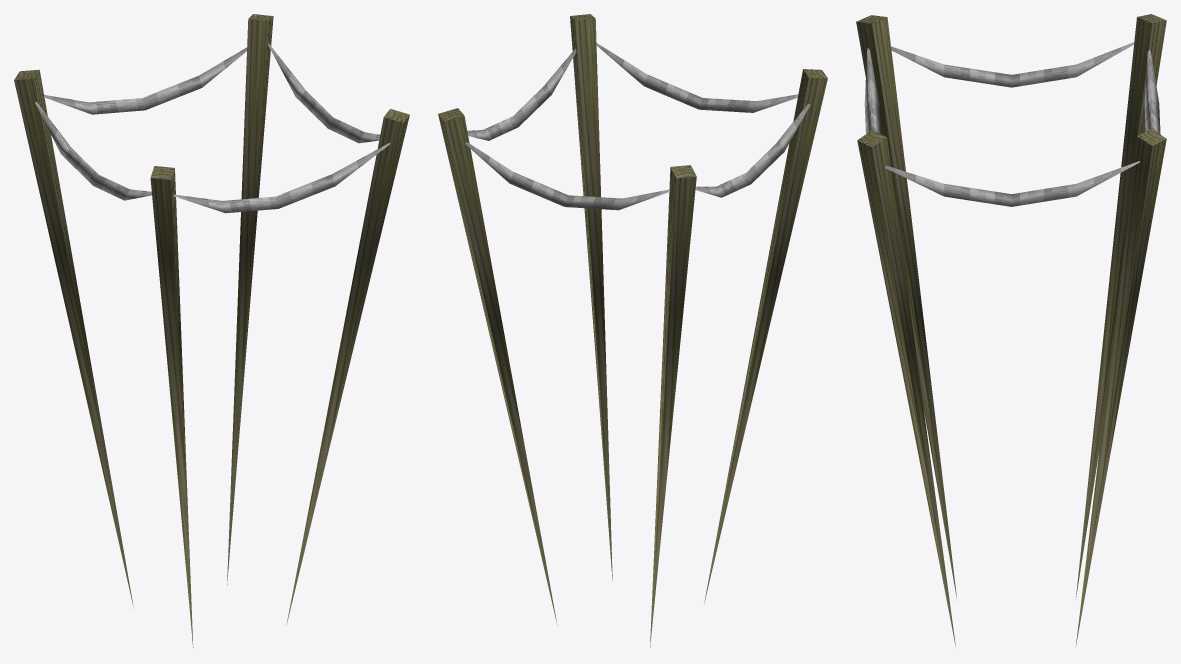
File: buildplace.obj
The picture shows the model from 3 angles, left to right: view 1: azimuth 30°, elevation 25°; view 2: azimuth 150°, elevation 25°; view 3: azimuth 270°, elevation 25°; orthographic projection. The views are drawn at different scales.
Parts seen in each view (by area): view 1: Box01, Duplicate04, Duplicate03, Duplicate02, Duplicate07, Duplicate06, Duplicate05, Cylinder03; view 2: Duplicate03, Duplicate02, Duplicate04, Box01, Duplicate06, Duplicate07, Duplicate05, Cylinder03; view 3: Duplicate04, Duplicate03, Duplicate02, Box01, Cylinder03, Duplicate05, Duplicate07, Duplicate06.
Boxes of the visible parts, left/top/right/bottom form: Box01: left=14, top=69, right=133, bottom=608; Duplicate04: left=227, top=14, right=273, bottom=585; Duplicate03: left=286, top=109, right=409, bottom=625; Duplicate02: left=150, top=166, right=193, bottom=647; Duplicate07: left=173, top=143, right=390, bottom=213; Duplicate06: left=44, top=47, right=246, bottom=114; Duplicate05: left=35, top=101, right=151, bottom=200; Cylinder03: left=268, top=43, right=380, bottom=143; Duplicate03: left=570, top=14, right=612, bottom=580; Duplicate02: left=704, top=69, right=827, bottom=604; Duplicate04: left=438, top=108, right=557, bottom=624; Box01: left=650, top=165, right=696, bottom=647; Duplicate06: left=465, top=142, right=669, bottom=210; Duplicate07: left=596, top=43, right=798, bottom=112; Duplicate05: left=695, top=103, right=810, bottom=197; Cylinder03: left=467, top=48, right=576, bottom=140; Duplicate04: left=1075, top=129, right=1166, bottom=647; Duplicate03: left=857, top=130, right=955, bottom=646; Duplicate02: left=856, top=15, right=957, bottom=600; Box01: left=1075, top=14, right=1166, bottom=599; Cylinder03: left=885, top=161, right=1140, bottom=206; Duplicate05: left=891, top=42, right=1134, bottom=87; Duplicate07: left=864, top=48, right=880, bottom=133; Duplicate06: left=1144, top=50, right=1160, bottom=134.
Bounding box in the file's own units: 50.9 × 98.08 × 50.19.
